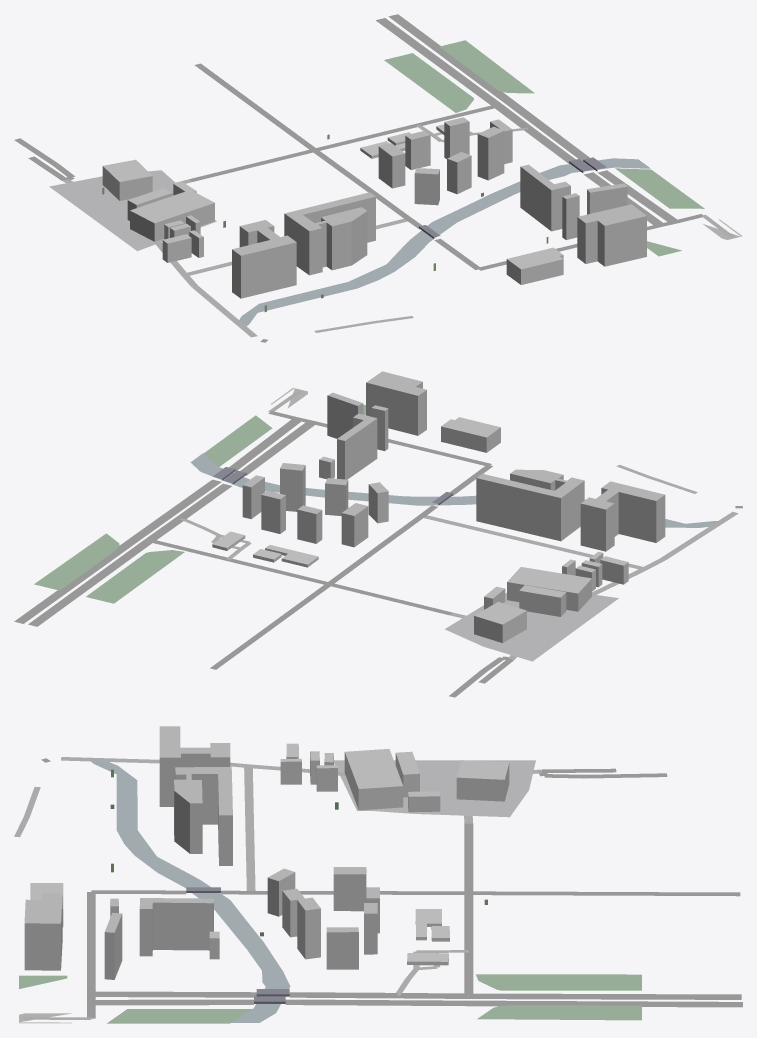
3 views of the same model, one above another, from view 1: azimuth 30°, elevation 25°; view 2: azimuth 150°, elevation 25°; view 3: azimuth 270°, elevation 25° (orthographic). The views are drawn at different scales.
Size of the model in its own units: 504 by 46.15 by 585.
